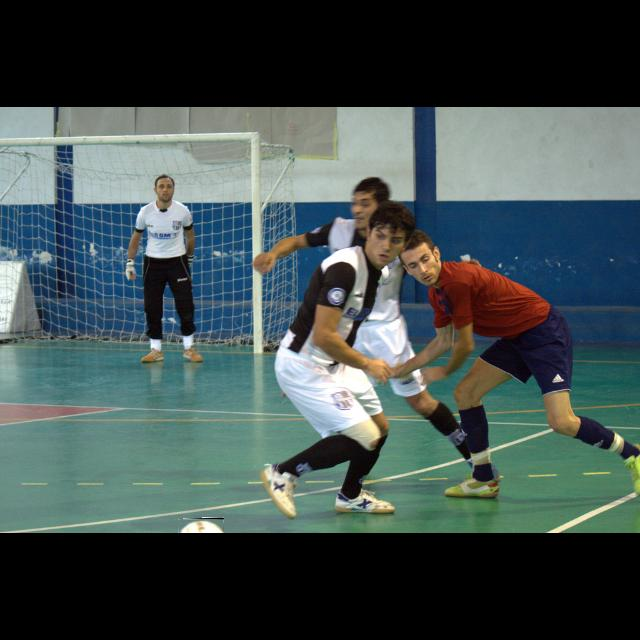Football: (178, 518, 224, 532)
